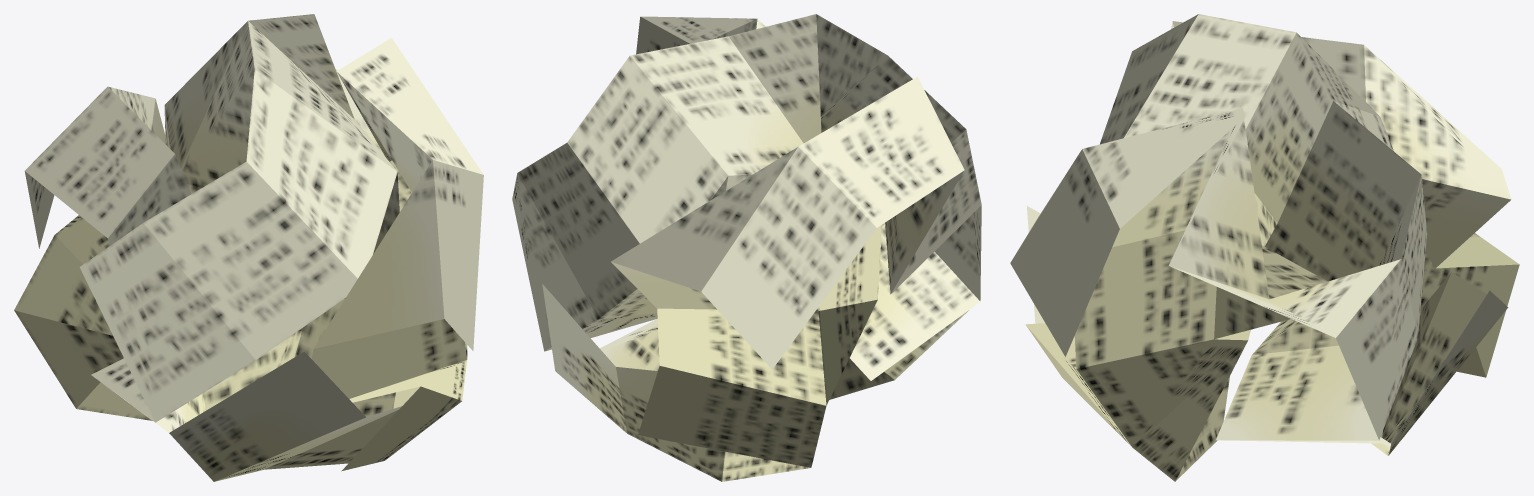
File: paperball.glb
The picture shows the model from 3 angles, left to right: view 1: azimuth 30°, elevation 25°; view 2: azimuth 150°, elevation 25°; view 3: azimuth 270°, elevation 25°; orthographic projection. The views are drawn at different scales.
Visible parts, largest first — view 1: Plane; view 2: Plane; view 3: Plane.
Part boxes in pixels (x1,y1,x2,y2): Plane: (14,14,483,481); Plane: (512,14,981,481); Plane: (1010,14,1519,481).
Size of the model in its own units: 0.0887 by 0.0853 by 0.0929.
Materials: 1 (1 with a texture image).
